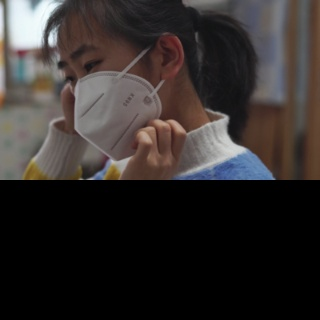with_mask: (56, 42, 163, 164)
